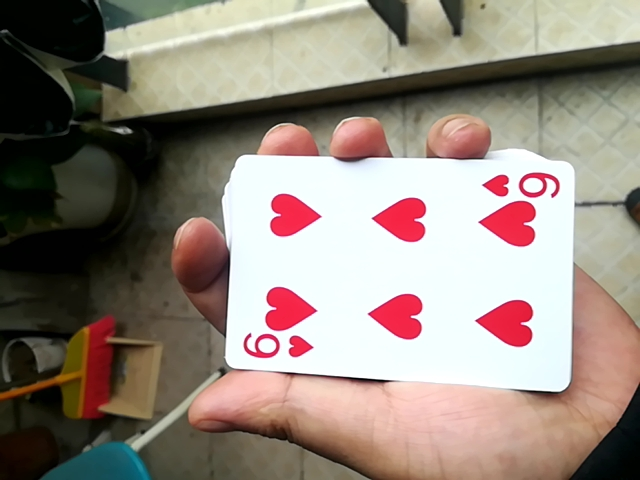hx 6: (214, 156, 578, 394)
